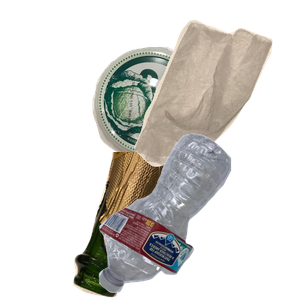glass: (71, 152, 260, 300)
metal: (90, 44, 289, 195)
plastic: (96, 131, 300, 300)
trash: (132, 17, 300, 177)
